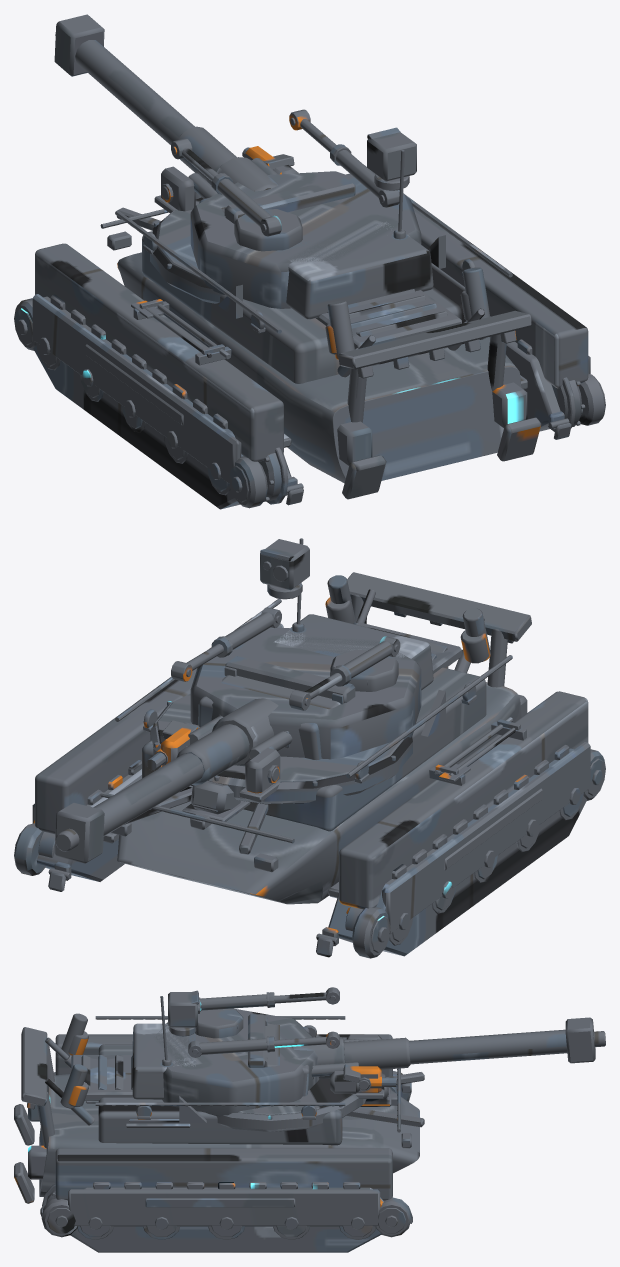
The model's file is ColossusSiegePlatform_Atlas.fbx.
3 views of the same model, one above another, from view 1: azimuth 30°, elevation 25°; view 2: azimuth 150°, elevation 25°; view 3: azimuth 270°, elevation 25° (orthographic). The views are drawn at different scales.
Visible parts, largest first — view 1: ColossusSiegePlatform_UnifiedMesh; view 2: ColossusSiegePlatform_UnifiedMesh; view 3: ColossusSiegePlatform_UnifiedMesh.
Part boxes in pixels (bbox=[...]): ColossusSiegePlatform_UnifiedMesh: bbox=[14, 14, 605, 509]; ColossusSiegePlatform_UnifiedMesh: bbox=[14, 538, 605, 958]; ColossusSiegePlatform_UnifiedMesh: bbox=[14, 987, 605, 1252].
Size of the model in its own units: 258 by 187 by 474.
Materials: 1 (1 with a texture image).
